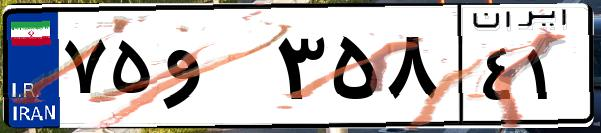1: (525, 38, 570, 115)
3: (270, 28, 330, 110)
4: (475, 38, 525, 113)
5: (330, 28, 385, 110), (110, 28, 158, 98)
7: (57, 26, 110, 100)
8: (385, 28, 445, 110)
و: (158, 20, 270, 120)
